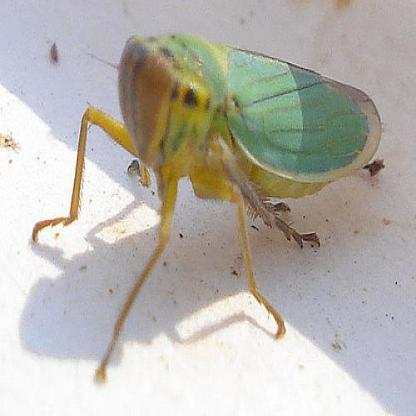Green-Leafhopper: (37, 30, 384, 384)
